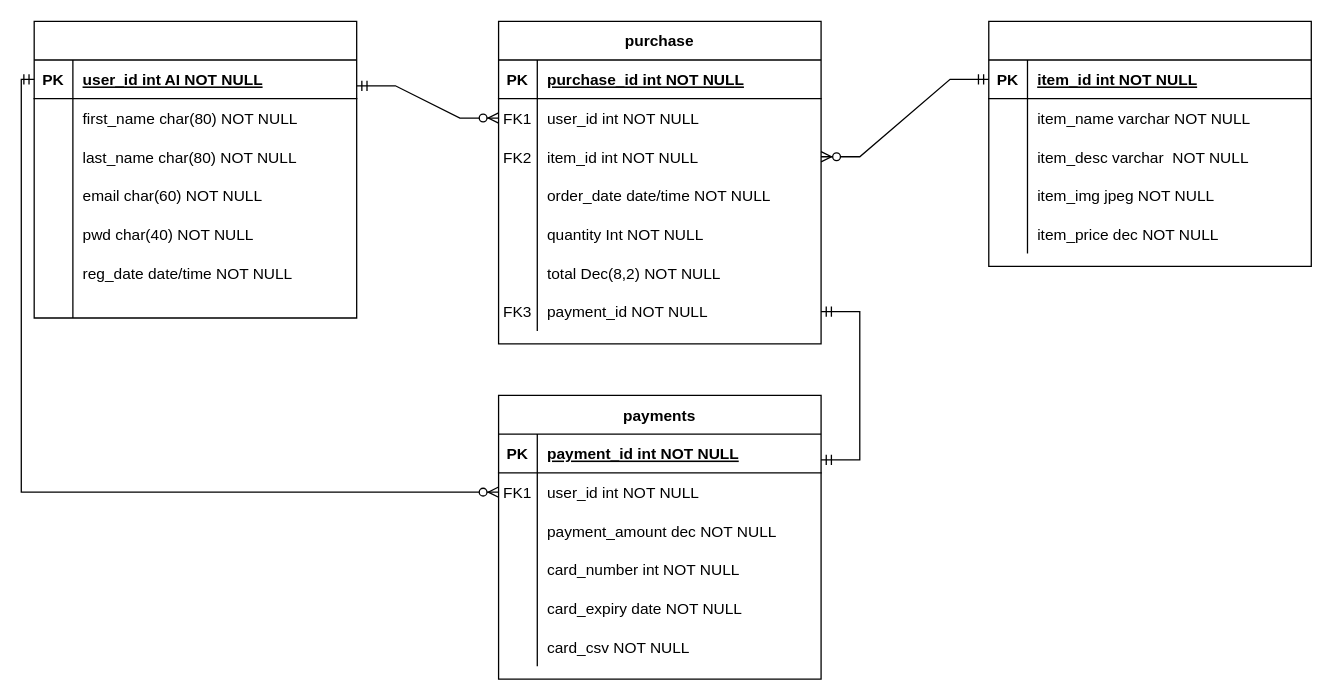
Image size: 1333x700. Some labels were removed from this diagram. Here are the shapes that lost their labels. From the top down, the box of each, then its label:
(987, 20, 1311, 266): products
(33, 20, 357, 318): users
